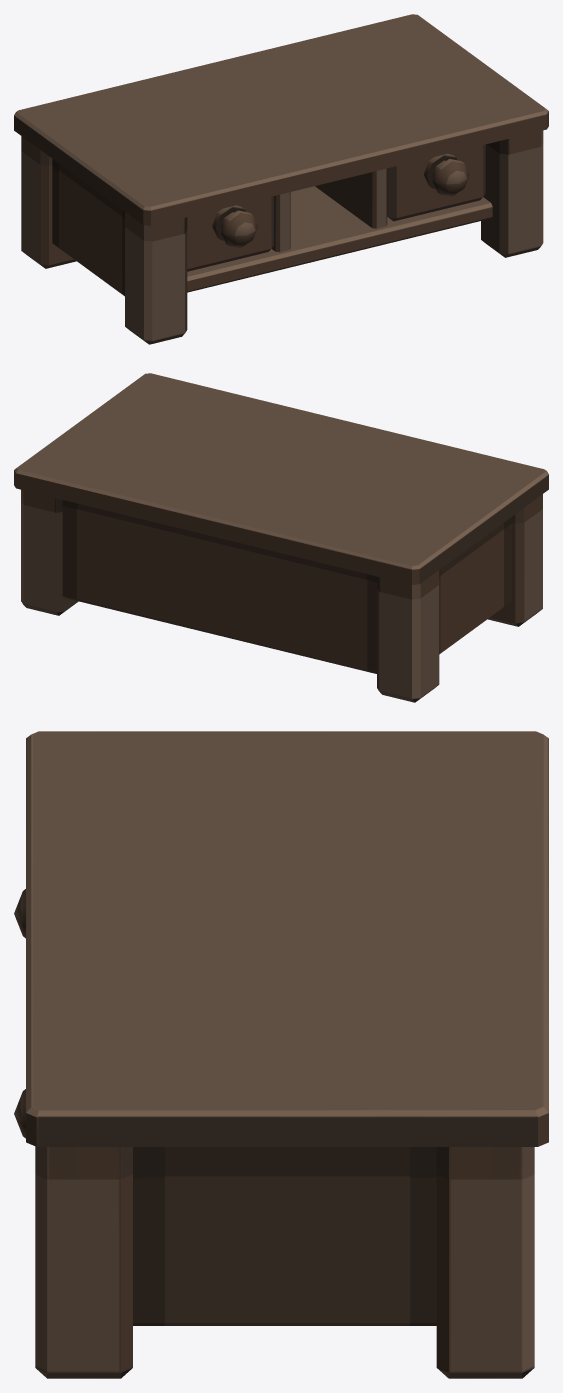
File: housepack_table_televisionStand_1.FBX
The picture shows the model from 3 angles, top to bottom: view 1: azimuth 30°, elevation 25°; view 2: azimuth 150°, elevation 25°; view 3: azimuth 270°, elevation 25°; orthographic projection. The views are drawn at different scales.
Parts seen in each view (by area): view 1: housepack_table_televisionStand_1; view 2: housepack_table_televisionStand_1; view 3: housepack_table_televisionStand_1.
Part boxes in pixels (bbox=[...]): housepack_table_televisionStand_1: bbox=[14, 14, 548, 344]; housepack_table_televisionStand_1: bbox=[14, 373, 548, 702]; housepack_table_televisionStand_1: bbox=[14, 731, 548, 1378].
Bounding box in the file's own units: 75 × 24.99 × 44.2.
